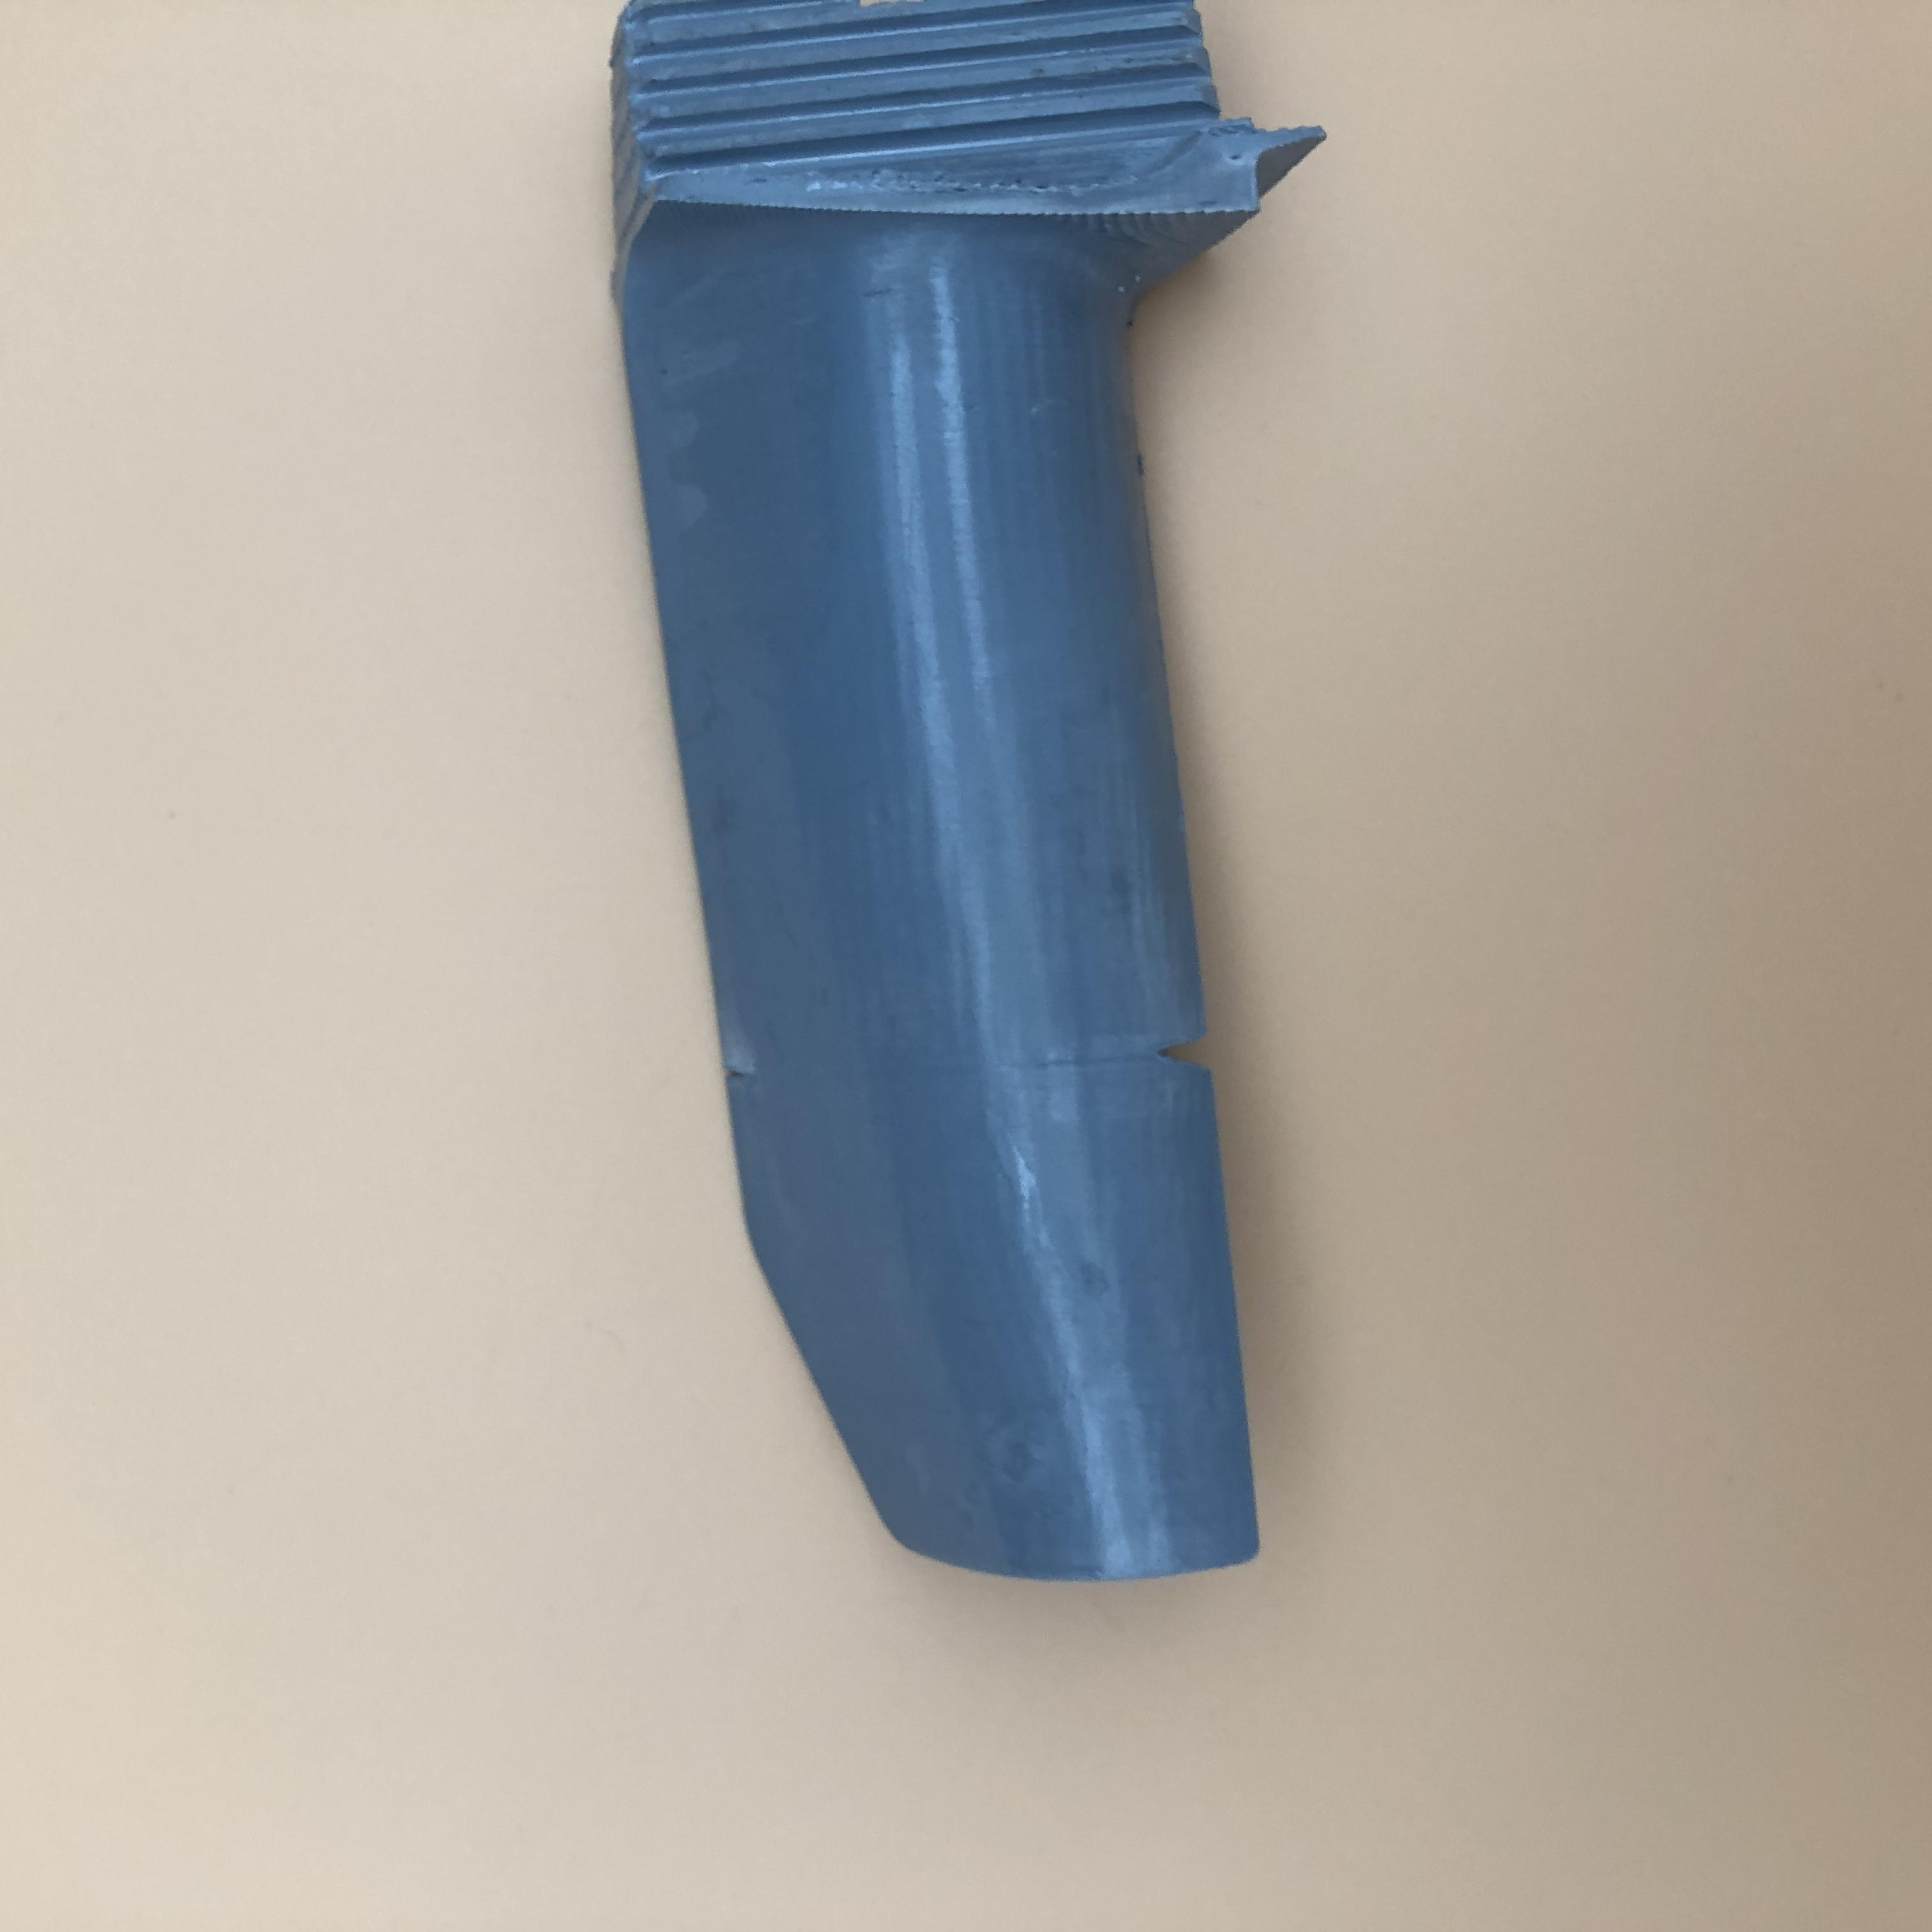groove: (1150, 1019, 1224, 1072), (720, 1044, 755, 1088)
